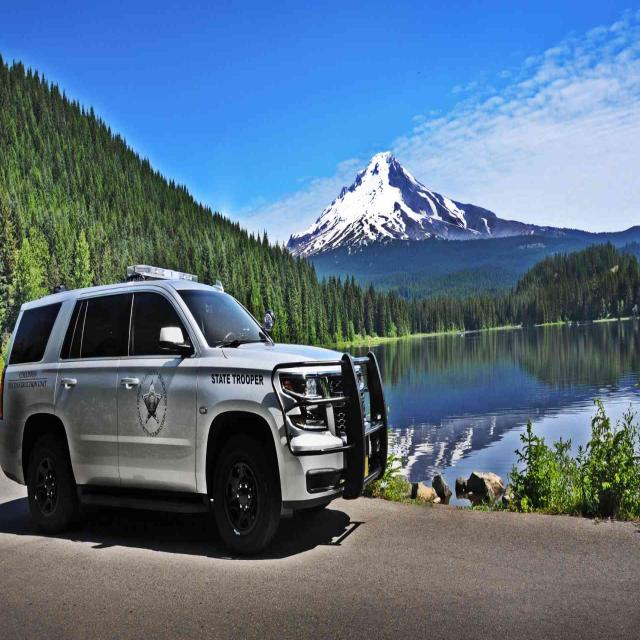cop: (0, 268, 394, 559)
